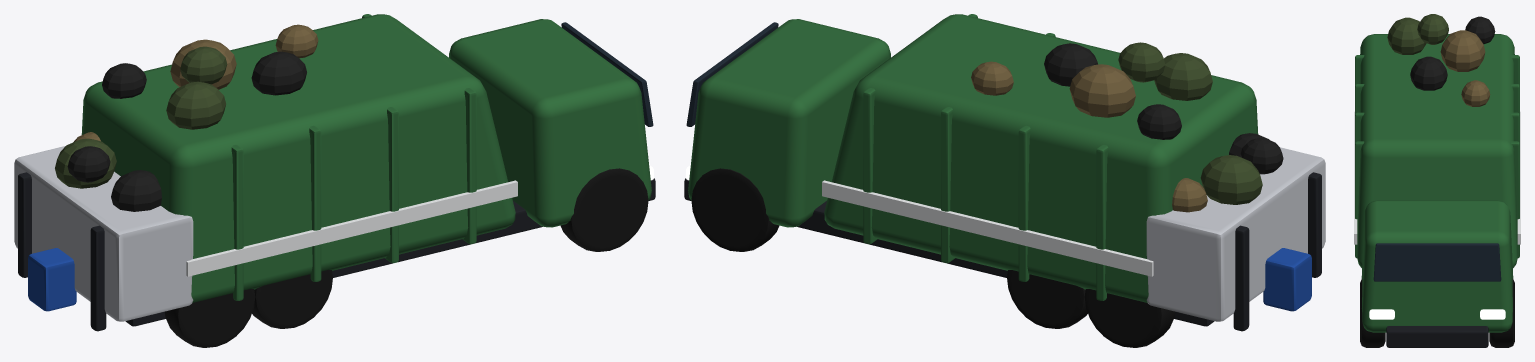
The model's file is garbage.glb.
3 views of the same model, side by side, from view 1: azimuth 30°, elevation 25°; view 2: azimuth 150°, elevation 25°; view 3: azimuth 270°, elevation 25° (orthographic). The views are drawn at different scales.
Parts seen in each view (by area): view 1: part-garbage-green, part-chrome, part-trash-a, part-livery-white, part-trim, wheel-+20--1-tyre, part-trash-b, wheel--20--1-tyre, wheel--12--1-tyre, part-bin, part-trash-c, part-glass; view 2: part-garbage-green, part-chrome, part-trash-b, part-livery-white, part-trim, wheel-+20-1-tyre, part-trash-c, part-trash-a, wheel--20-1-tyre, wheel--12-1-tyre, part-bin, part-glass; view 3: part-garbage-green, part-glass, part-trim, part-trash-c, part-trash-b, part-trash-a, wheel-+20-1-tyre, wheel-+20--1-tyre, part-livery-white, headlight-1, headlight--1.
Boxes of the visible parts, bbox=[...] form: part-garbage-green: bbox=[81, 14, 651, 302]; part-chrome: bbox=[14, 146, 193, 321]; part-trash-a: bbox=[67, 51, 306, 211]; part-livery-white: bbox=[186, 180, 517, 276]; part-trim: bbox=[18, 172, 655, 331]; wheel-+20--1-tyre: bbox=[560, 168, 648, 251]; part-trash-b: bbox=[55, 46, 227, 188]; wheel--20--1-tyre: bbox=[164, 289, 255, 347]; wheel--12--1-tyre: bbox=[252, 270, 332, 328]; part-bin: bbox=[28, 248, 76, 311]; part-trash-c: bbox=[74, 24, 318, 141]; part-glass: bbox=[561, 22, 653, 126]; part-garbage-green: bbox=[688, 14, 1258, 302]; part-chrome: bbox=[1146, 147, 1325, 321]; part-trash-b: bbox=[1118, 42, 1262, 204]; part-livery-white: bbox=[822, 180, 1153, 276]; part-trim: bbox=[684, 172, 1321, 331]; wheel-+20-1-tyre: bbox=[691, 168, 779, 251]; part-trash-c: bbox=[971, 61, 1207, 212]; part-trash-a: bbox=[1044, 43, 1283, 174]; wheel--20-1-tyre: bbox=[1084, 289, 1175, 347]; wheel--12-1-tyre: bbox=[1007, 270, 1087, 328]; part-bin: bbox=[1263, 248, 1311, 311]; part-glass: bbox=[686, 22, 778, 126]; part-garbage-green: bbox=[1355, 34, 1519, 332]; part-glass: bbox=[1373, 243, 1501, 281]; part-trim: bbox=[1386, 326, 1488, 347]; part-trash-c: bbox=[1440, 30, 1490, 106]; part-trash-b: bbox=[1387, 14, 1448, 54]; part-trash-a: bbox=[1410, 16, 1495, 90]; wheel-+20-1-tyre: bbox=[1489, 279, 1514, 347]; wheel-+20--1-tyre: bbox=[1360, 279, 1385, 347]; part-livery-white: bbox=[1354, 111, 1520, 244]; headlight-1: bbox=[1480, 309, 1505, 319]; headlight--1: bbox=[1369, 309, 1394, 319].
Size of the model in its own units: 60.5 by 25.36 by 19.6.
